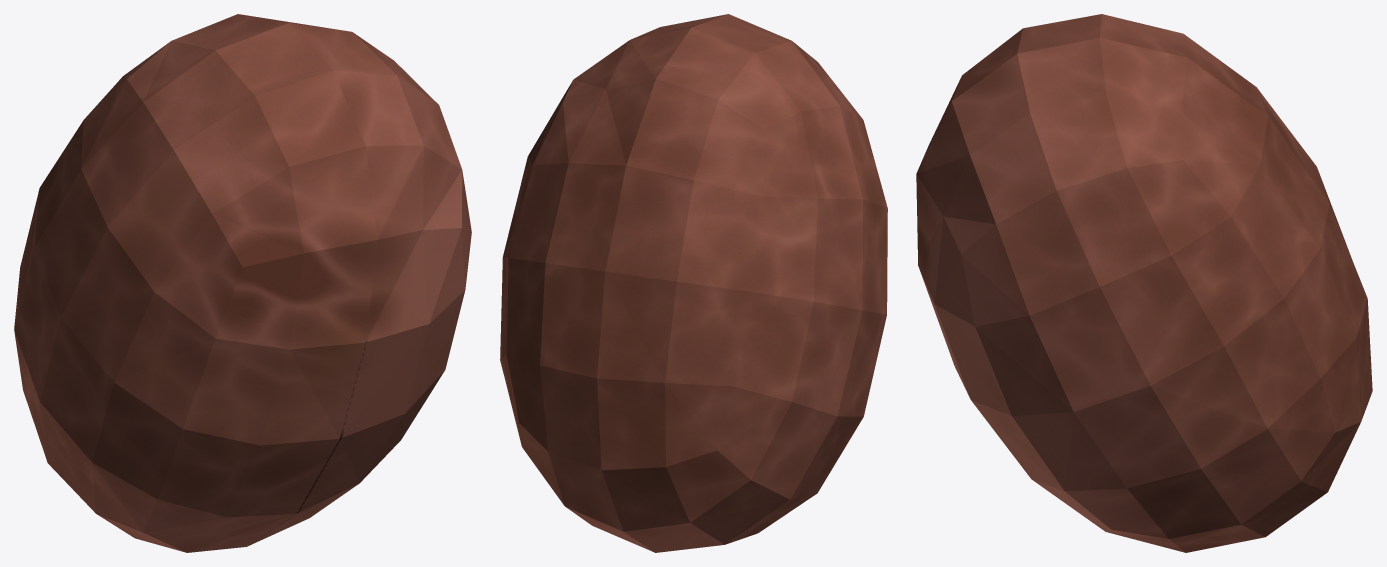
File: Ovary_Left_Alone.obj
The picture shows the model from 3 angles, left to right: view 1: azimuth 30°, elevation 25°; view 2: azimuth 150°, elevation 25°; view 3: azimuth 270°, elevation 25°; orthographic projection. The views are drawn at different scales.
Parts seen in each view (by area): view 1: Utero3_Ovarios; view 2: Utero3_Ovarios; view 3: Utero3_Ovarios.
Boxes of the visible parts, x1,y1,x2,y2 form: Utero3_Ovarios: [14, 14, 471, 552]; Utero3_Ovarios: [500, 14, 887, 552]; Utero3_Ovarios: [916, 14, 1372, 552].
Size of the model in its own units: 0.3572 by 0.489 by 0.3936.
1 material, 1 textured.
